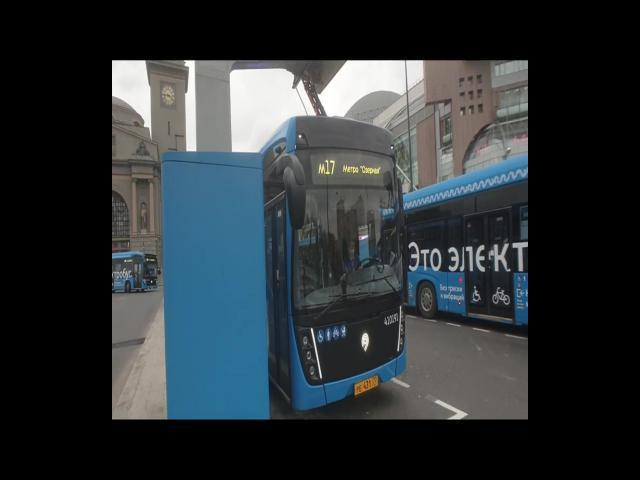bus: (262, 118, 406, 412), (401, 152, 527, 331), (112, 251, 158, 293)
